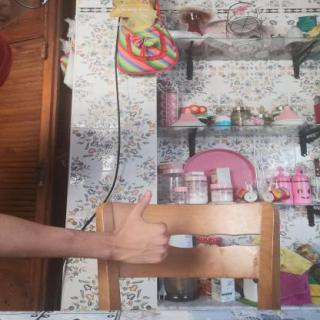ALIF: (102, 181, 180, 274)
